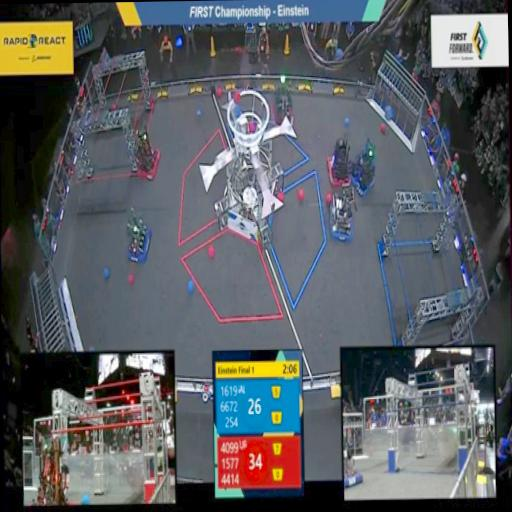robot: (129, 120, 169, 188), (348, 136, 380, 208), (122, 202, 154, 266), (323, 186, 358, 244), (320, 132, 354, 191), (268, 75, 298, 132)
